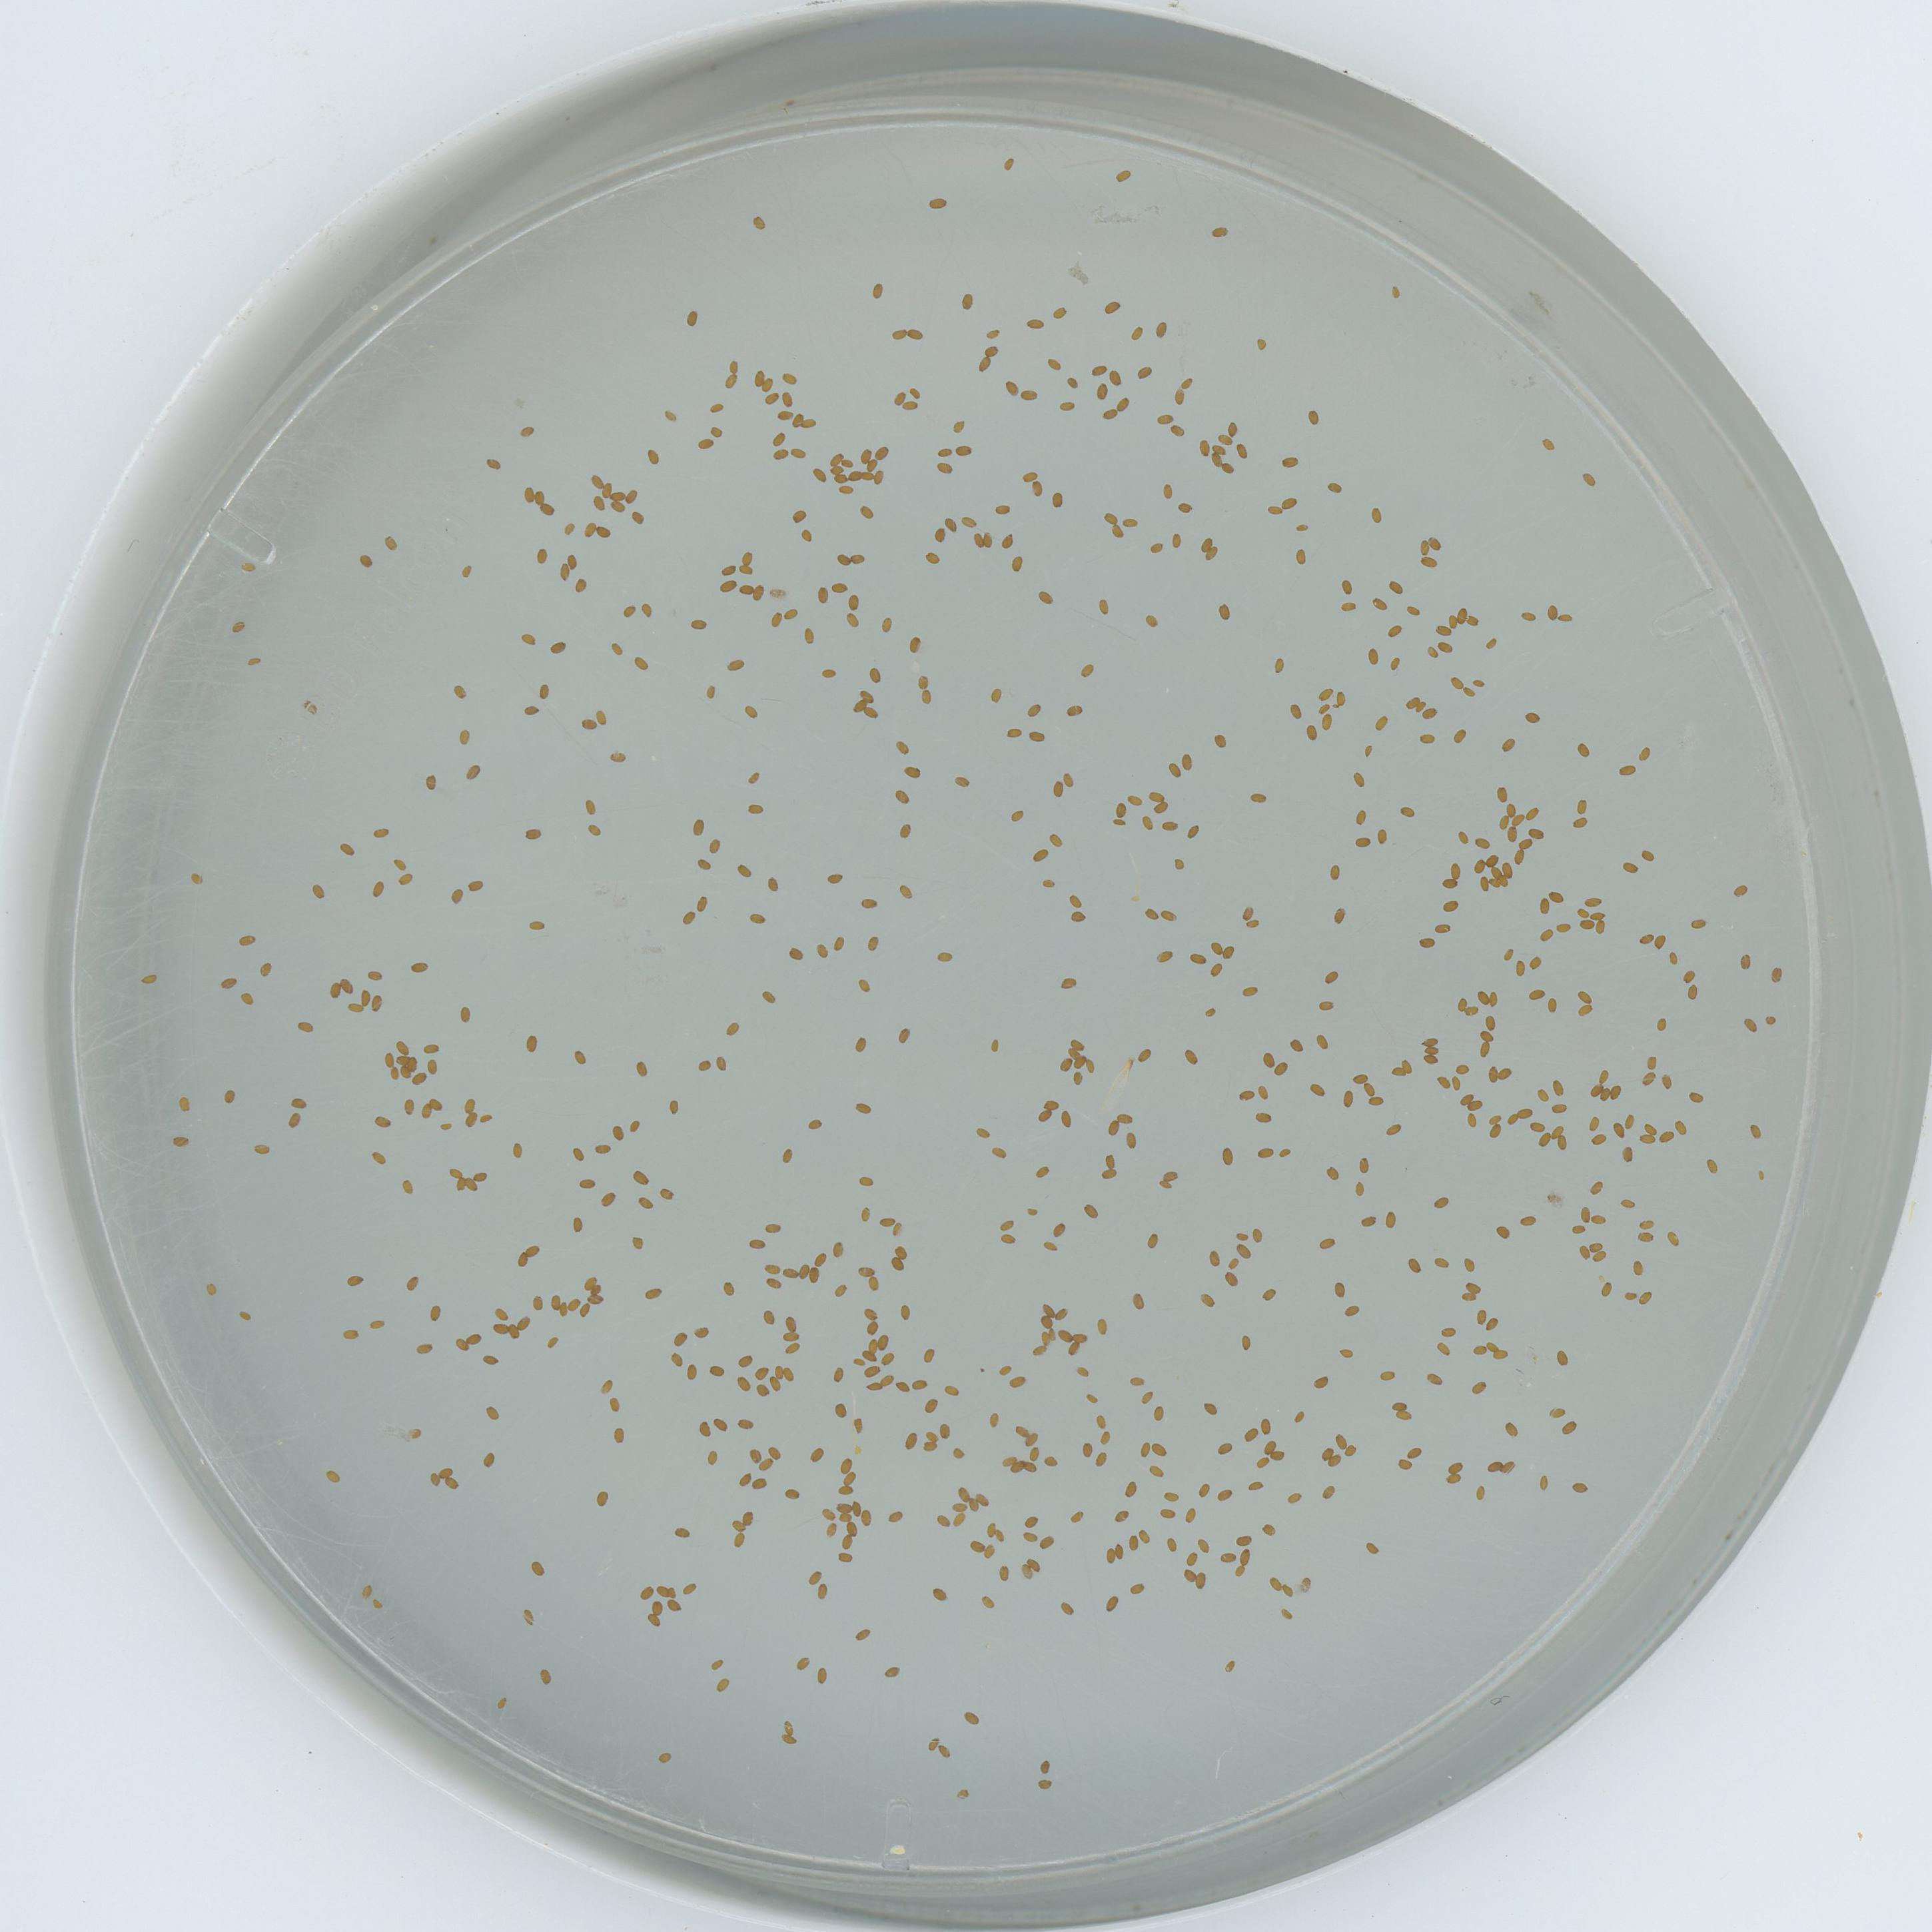seed: (644, 1281, 663, 1300), (1214, 602, 1233, 621), (750, 1362, 771, 1380), (464, 763, 483, 780), (832, 1401, 851, 1419), (421, 1037, 441, 1054), (598, 1191, 617, 1208), (524, 1033, 541, 1053), (1440, 897, 1460, 915), (1031, 846, 1049, 865), (1491, 786, 1511, 803), (1102, 297, 1122, 315), (1338, 1088, 1357, 1106), (1182, 1550, 1201, 1568), (1217, 1146, 1237, 1164), (1054, 1108, 1074, 1125), (1150, 1438, 1168, 1458), (1608, 1120, 1628, 1138), (870, 281, 888, 299), (867, 665, 885, 683), (548, 639, 566, 656), (895, 821, 913, 839), (893, 787, 911, 805), (929, 193, 947, 211), (690, 819, 708, 837), (683, 310, 701, 327), (787, 943, 805, 961), (518, 485, 536, 502), (837, 1454, 855, 1472), (876, 1332, 893, 1350), (529, 1559, 547, 1576), (902, 1431, 920, 1449), (579, 1173, 596, 1191), (695, 1419, 713, 1437), (748, 1235, 766, 1253), (922, 1396, 939, 1414), (768, 1442, 786, 1460), (885, 1661, 902, 1679), (736, 1375, 754, 1392), (632, 1169, 649, 1187), (713, 1414, 731, 1431), (610, 1426, 628, 1444), (761, 1307, 778, 1325), (855, 1035, 872, 1053), (594, 1488, 612, 1506), (814, 1667, 832, 1684), (1093, 382, 1111, 400), (1210, 732, 1228, 750), (1046, 832, 1063, 849), (1090, 361, 1108, 379), (1035, 587, 1053, 605), (1387, 577, 1405, 594), (1373, 828, 1391, 846), (1047, 490, 1065, 508), (1302, 724, 1320, 741), (1500, 736, 1518, 754), (1125, 791, 1143, 809), (1575, 741, 1592, 759), (998, 531, 1016, 548), (1177, 754, 1194, 771), (1286, 1033, 1304, 1051), (1102, 1594, 1120, 1612), (1198, 1290, 1215, 1307), (1502, 1419, 1520, 1437), (1426, 1369, 1444, 1387), (1077, 1440, 1095, 1458), (1254, 1106, 1272, 1123), (1081, 1201, 1099, 1219), (1049, 1219, 1067, 1237), (1148, 1403, 1166, 1421), (1182, 1044, 1200, 1062), (1127, 1580, 1145, 1598), (1405, 1254, 1422, 1272), (1674, 1116, 1691, 1134), (1122, 1129, 1139, 1146), (1353, 1155, 1371, 1173), (1665, 1230, 1683, 1247), (1237, 1085, 1254, 1102), (1382, 1210, 1399, 1228), (1560, 1417, 1578, 1435), (1330, 1279, 1348, 1297), (826, 872, 846, 888), (694, 895, 713, 911), (780, 370, 800, 386), (863, 1320, 883, 1336), (736, 1350, 755, 1366), (708, 1361, 727, 1376), (483, 1405, 502, 1421), (221, 1086, 237, 1106), (936, 1422, 955, 1438), (257, 962, 276, 978), (1187, 948, 1207, 964), (1279, 453, 1299, 469), (1024, 315, 1044, 331), (1433, 623, 1453, 639), (1527, 985, 1546, 1001), (1516, 1104, 1536, 1120), (1217, 1548, 1237, 1564), (1445, 1458, 1465, 1474), (1258, 1438, 1277, 1454), (1196, 1571, 1212, 1591), (1644, 1051, 1663, 1067), (1513, 957, 1527, 978), (936, 947, 954, 962), (862, 895, 879, 911), (874, 442, 892, 458), (632, 655, 649, 671), (814, 586, 832, 602), (862, 686, 878, 704), (925, 548, 941, 566), (846, 594, 863, 610), (860, 502, 878, 518), (596, 522, 612, 540), (706, 839, 724, 855), (764, 876, 782, 892), (448, 888, 465, 904), (791, 508, 809, 524), (906, 637, 924, 653), (736, 863, 754, 879), (892, 324, 908, 341), (931, 527, 948, 543), (865, 934, 883, 950), (904, 764, 922, 780), (582, 798, 598, 816), (695, 858, 713, 874), (893, 740, 911, 755), (639, 602, 656, 617), (239, 931, 257, 947), (844, 612, 862, 628), (724, 373, 741, 389), (534, 683, 552, 699), (766, 610, 784, 626), (338, 842, 356, 858), (690, 616, 708, 632), (534, 547, 550, 564), (725, 357, 741, 375), (529, 916, 547, 932), (720, 561, 738, 577), (801, 628, 819, 644), (750, 584, 768, 600), (587, 472, 605, 488), (810, 467, 828, 483), (571, 577, 587, 594), (918, 690, 936, 706), (421, 775, 439, 791), (727, 656, 745, 672), (586, 823, 603, 839), (858, 1261, 876, 1277), (867, 1274, 885, 1290), (784, 1484, 801, 1500), (911, 1375, 929, 1391), (403, 1274, 421, 1290), (396, 1039, 414, 1054), (764, 1219, 782, 1235), (888, 1507, 906, 1523), (897, 1304, 915, 1320), (672, 1329, 690, 1345), (830, 1366, 847, 1382), (416, 1339, 433, 1355), (738, 1414, 755, 1430), (879, 1212, 897, 1228), (456, 1005, 474, 1021), (373, 1113, 391, 1129), (426, 1304, 444, 1320), (704, 1449, 722, 1465), (423, 1058, 441, 1074), (931, 1585, 947, 1603), (784, 1313, 800, 1330), (814, 1583, 832, 1599), (683, 1362, 701, 1378), (571, 1047, 589, 1063), (823, 1522, 840, 1537), (525, 1240, 543, 1256), (658, 1182, 674, 1200), (858, 1171, 876, 1187), (694, 1323, 711, 1339), (568, 1217, 586, 1233), (812, 1249, 828, 1267), (437, 1461, 455, 1477), (400, 1099, 418, 1115), (856, 1099, 874, 1115), (778, 1148, 796, 1164), (520, 1610, 538, 1626), (633, 1062, 651, 1077), (338, 977, 354, 994), (665, 1097, 683, 1113), (288, 1093, 306, 1109), (764, 1274, 782, 1290), (324, 1465, 340, 1483), (538, 1668, 554, 1686), (630, 1231, 646, 1249), (287, 1115, 304, 1131), (833, 1281, 851, 1297), (1159, 483, 1177, 499), (1292, 548, 1309, 564), (1065, 893, 1083, 909), (1184, 824, 1201, 840), (975, 356, 993, 372), (1120, 513, 1138, 529), (1138, 816, 1155, 832), (1141, 612, 1159, 628), (1005, 725, 1023, 741), (1155, 948, 1173, 964), (993, 501, 1010, 517), (1355, 833, 1371, 851), (1350, 771, 1368, 787), (1008, 556, 1026, 571), (1523, 709, 1541, 725), (1447, 674, 1465, 690), (1028, 729, 1046, 745), (1049, 304, 1067, 320), (1152, 320, 1168, 338), (1155, 409, 1173, 425), (1047, 782, 1065, 798), (1281, 494, 1299, 510), (1537, 925, 1555, 941), (1417, 731, 1435, 747), (982, 341, 1000, 357), (1364, 648, 1382, 663), (1286, 702, 1304, 718), (1065, 702, 1083, 718), (1093, 598, 1111, 614), (1573, 798, 1591, 814), (1162, 817, 1180, 833), (1732, 883, 1750, 899), (1523, 807, 1541, 823), (1249, 789, 1267, 805), (1403, 602, 1421, 617), (1474, 833, 1491, 849), (1207, 939, 1223, 957), (1141, 906, 1159, 922), (1146, 540, 1164, 556), (1161, 908, 1178, 924), (1316, 685, 1332, 702), (1419, 932, 1435, 950), (1330, 908, 1348, 924), (1440, 878, 1458, 893), (1106, 370, 1123, 386), (1115, 395, 1132, 410), (1162, 763, 1180, 778), (1318, 715, 1336, 731), (1109, 803, 1127, 819), (1332, 692, 1350, 708), (1352, 810, 1369, 826), (1062, 373, 1079, 389), (1134, 363, 1152, 379), (1587, 1178, 1605, 1194), (1205, 1249, 1223, 1265), (1470, 1307, 1488, 1323), (985, 1412, 1003, 1428), (1550, 1403, 1568, 1419), (1042, 1095, 1060, 1111), (1035, 1109, 1053, 1125), (1481, 1016, 1499, 1031), (1629, 1258, 1647, 1274), (1435, 1339, 1453, 1355), (1534, 1474, 1552, 1490), (1470, 1378, 1488, 1394), (968, 1537, 985, 1553), (1056, 1058, 1074, 1074), (1146, 1463, 1164, 1479), (1320, 1484, 1338, 1500), (1352, 1178, 1368, 1196), (1233, 1530, 1251, 1546), (1640, 1069, 1658, 1085), (1318, 1231, 1336, 1247), (1338, 1345, 1355, 1361), (1619, 1194, 1637, 1210), (1638, 1288, 1656, 1304), (991, 1143, 1008, 1159), (1215, 1486, 1233, 1502), (1704, 1157, 1721, 1173), (1258, 1417, 1276, 1433), (1484, 1458, 1502, 1474), (1159, 1506, 1177, 1522), (1161, 1166, 1178, 1182), (1658, 1072, 1674, 1090), (1323, 1164, 1341, 1180), (1405, 1444, 1422, 1460), (1591, 1131, 1608, 1146), (1021, 1513, 1039, 1529), (1129, 1292, 1145, 1309), (1343, 1302, 1361, 1318), (1352, 1067, 1369, 1083), (1037, 1534, 1054, 1550), (1309, 1081, 1327, 1097), (996, 1361, 1014, 1376), (1591, 1210, 1608, 1226), (1037, 1759, 1053, 1776), (1359, 1212, 1376, 1228), (1215, 1440, 1233, 1456), (1265, 1573, 1281, 1591), (1553, 1350, 1571, 1366), (1433, 1072, 1451, 1088), (1272, 1060, 1290, 1076), (1254, 1083, 1272, 1099), (1311, 1373, 1329, 1389), (1194, 1536, 1212, 1552), (1484, 1065, 1500, 1083), (1545, 996, 1562, 1012), (1256, 1143, 1274, 1159), (1652, 1016, 1670, 1031), (1619, 1146, 1637, 1162), (1120, 1481, 1138, 1497), (1127, 1373, 1145, 1389), (1235, 1242, 1253, 1258), (1576, 1001, 1594, 1017), (1529, 1116, 1546, 1132), (1497, 1063, 1514, 1079), (1470, 1341, 1488, 1357), (1624, 1111, 1640, 1129), (1743, 1016, 1759, 1033), (1536, 1131, 1552, 1148), (1123, 1534, 1139, 1552), (1746, 1122, 1764, 1138), (1476, 1024, 1493, 1040), (1069, 1069, 1085, 1086), (1552, 1079, 1568, 1097), (1491, 1346, 1509, 1362), (177, 1095, 193, 1113), (244, 653, 262, 669), (370, 994, 384, 1014), (1433, 920, 1453, 934), (1548, 1100, 1568, 1115), (770, 586, 789, 600), (879, 617, 895, 633), (524, 702, 540, 718), (310, 885, 326, 901), (853, 550, 869, 566), (591, 495, 607, 511), (832, 934, 847, 950), (908, 384, 924, 400), (525, 826, 541, 842), (520, 630, 536, 646), (709, 400, 725, 416), (630, 510, 646, 525), (621, 603, 637, 619), (863, 706, 879, 722), (453, 685, 469, 701), (663, 407, 679, 423), (373, 824, 389, 840), (398, 872, 414, 888), (561, 520, 577, 536), (915, 674, 931, 690), (556, 564, 571, 580), (456, 729, 472, 745), (699, 435, 715, 451), (391, 856, 407, 872), (833, 579, 849, 594), (748, 800, 764, 816), (780, 391, 796, 407), (370, 881, 386, 897), (771, 430, 787, 446), (580, 717, 596, 732), (540, 502, 556, 518), (704, 683, 720, 699), (750, 909, 766, 925), (938, 460, 954, 476), (580, 522, 596, 538), (566, 552, 582, 568), (609, 640, 625, 656), (646, 448, 662, 464), (750, 214, 766, 230), (740, 550, 755, 566), (594, 709, 610, 725), (487, 455, 502, 471), (357, 552, 373, 568), (830, 451, 846, 467), (674, 1522, 690, 1537), (600, 1376, 616, 1392), (943, 1382, 959, 1398), (237, 991, 253, 1007), (936, 1743, 952, 1759), (738, 1470, 754, 1486), (747, 1447, 763, 1463), (893, 1240, 909, 1256), (529, 1293, 545, 1309), (895, 1378, 911, 1394), (807, 1568, 823, 1583), (596, 1139, 612, 1155), (297, 1017, 313, 1033), (863, 1304, 879, 1320), (821, 1506, 837, 1522), (492, 1320, 508, 1336), (462, 1095, 478, 1111), (510, 1143, 525, 1159), (715, 1677, 731, 1693), (626, 1116, 642, 1132), (720, 1279, 736, 1295), (612, 1125, 628, 1141), (481, 1451, 497, 1467), (515, 1315, 531, 1330), (796, 1654, 812, 1670), (571, 1145, 587, 1161), (832, 1242, 847, 1258), (442, 1476, 458, 1491), (858, 1205, 874, 1221), (948, 1445, 964, 1461), (637, 1583, 653, 1599), (883, 1350, 899, 1366), (637, 1192, 653, 1208), (810, 1445, 826, 1461), (839, 1550, 855, 1566), (752, 1476, 768, 1491), (807, 1115, 823, 1131), (715, 1054, 731, 1070), (895, 1026, 911, 1042), (667, 1598, 683, 1614), (741, 1511, 757, 1527), (253, 1139, 269, 1155), (545, 1334, 561, 1350), (837, 1499, 853, 1514), (407, 1424, 423, 1440), (368, 1315, 384, 1330), (851, 1417, 867, 1433), (359, 1582, 375, 1598), (892, 1223, 908, 1238), (1387, 623, 1403, 639), (1003, 380, 1019, 396), (1582, 471, 1598, 487), (1028, 481, 1044, 497), (1368, 506, 1384, 522), (1238, 906, 1254, 922), (1339, 580, 1355, 596), (1077, 662, 1093, 678), (1024, 702, 1040, 718), (987, 686, 1003, 702), (1483, 635, 1499, 651), (1235, 442, 1251, 458), (1652, 934, 1668, 950), (1619, 763, 1635, 778), (1021, 386, 1037, 402), (1044, 356, 1060, 372), (1422, 706, 1438, 722), (984, 326, 1000, 341), (1039, 876, 1054, 892), (1146, 787, 1162, 803), (1398, 803, 1414, 819), (1306, 410, 1322, 426), (1541, 437, 1557, 453), (1573, 816, 1589, 832), (1221, 943, 1237, 959), (1060, 771, 1076, 787), (1500, 945, 1516, 961), (1178, 373, 1194, 389), (1667, 950, 1683, 966), (1454, 830, 1470, 846), (1327, 865, 1343, 881), (1438, 639, 1454, 655), (1373, 715, 1389, 731), (1224, 419, 1240, 435), (1169, 856, 1185, 872), (1536, 899, 1552, 915), (1194, 439, 1210, 455), (1205, 545, 1221, 561), (1504, 828, 1520, 844), (1171, 389, 1187, 405), (1265, 502, 1281, 518), (1594, 920, 1610, 936), (1058, 1601, 1074, 1617), (1573, 1479, 1589, 1495), (1069, 1033, 1085, 1049), (1323, 970, 1339, 985), (1240, 982, 1256, 998), (1440, 1323, 1456, 1339), (1364, 1539, 1380, 1555), (1145, 1231, 1161, 1247), (1316, 996, 1332, 1012), (1223, 1270, 1238, 1286), (1136, 1046, 1152, 1062), (1433, 1253, 1449, 1269), (1242, 1428, 1258, 1444), (1136, 1442, 1152, 1458), (1378, 1366, 1394, 1382), (1237, 1334, 1253, 1350), (1684, 984, 1700, 1000), (1162, 1536, 1178, 1552), (1260, 1522, 1276, 1537), (1433, 1192, 1449, 1208), (1104, 1120, 1120, 1136), (1495, 1223, 1511, 1238), (1260, 1284, 1276, 1300), (1196, 1481, 1212, 1497), (1286, 1490, 1302, 1506), (1260, 1049, 1276, 1065), (1247, 1477, 1263, 1493), (1037, 1315, 1053, 1330), (1201, 1399, 1217, 1415), (1472, 1484, 1488, 1500), (1460, 1254, 1476, 1270), (1093, 1318, 1109, 1334), (966, 1711, 982, 1727), (1474, 989, 1490, 1005), (1182, 1507, 1198, 1523), (1162, 1488, 1178, 1504), (1113, 1509, 1129, 1525), (1180, 1568, 1196, 1583), (1074, 1362, 1090, 1378), (980, 1594, 996, 1610), (1238, 1548, 1254, 1564), (1102, 1154, 1118, 1169), (1449, 1074, 1465, 1090), (1681, 968, 1697, 984), (1596, 1065, 1612, 1081), (1534, 1086, 1550, 1102), (1093, 1453, 1109, 1468), (1484, 1316, 1500, 1332), (1116, 1108, 1132, 1123), (1201, 1003, 1217, 1019), (1610, 1083, 1626, 1099), (1488, 1122, 1504, 1138), (1548, 1123, 1564, 1139), (1138, 1529, 1154, 1545), (1313, 1031, 1329, 1047), (1385, 1120, 1401, 1136), (1465, 1001, 1481, 1017), (1299, 1576, 1315, 1592), (1249, 1226, 1265, 1242), (1486, 1109, 1502, 1125), (1576, 1207, 1592, 1223), (996, 1566, 1012, 1582), (1083, 1391, 1099, 1407), (1465, 1277, 1481, 1293), (1598, 1279, 1614, 1295), (1039, 1300, 1054, 1316), (1026, 1557, 1042, 1573), (1095, 1430, 1111, 1445), (1587, 1115, 1603, 1131), (1233, 1228, 1249, 1244), (1037, 1776, 1053, 1792), (495, 1695, 511, 1711), (172, 1134, 188, 1150), (189, 870, 205, 886), (303, 699, 318, 715), (230, 617, 246, 633), (239, 559, 255, 575), (840, 483, 858, 497), (936, 444, 954, 458), (897, 885, 915, 899), (821, 667, 839, 681), (941, 517, 959, 531), (750, 368, 764, 386), (600, 479, 614, 497), (533, 487, 547, 504), (934, 1513, 952, 1527), (784, 1341, 801, 1355), (862, 1364, 879, 1378), (764, 1260, 782, 1274), (345, 1272, 363, 1286), (370, 1150, 387, 1164), (398, 1178, 416, 1192), (924, 1428, 941, 1442), (605, 1398, 623, 1412), (731, 1532, 748, 1546), (1325, 479, 1343, 494), (1008, 809, 1026, 823), (1069, 909, 1086, 924), (1622, 862, 1640, 876), (1548, 890, 1566, 904), (1127, 326, 1145, 340), (1555, 920, 1573, 934), (1168, 533, 1185, 547), (1451, 729, 1468, 743), (1585, 893, 1603, 908), (1150, 801, 1168, 816), (1403, 695, 1421, 709), (1578, 918, 1596, 932), (970, 531, 984, 548), (1421, 554, 1438, 568), (961, 292, 975, 310), (1008, 1375, 1026, 1389), (1520, 1212, 1537, 1226), (1638, 1215, 1656, 1230), (1463, 1113, 1481, 1127), (1224, 1254, 1242, 1269), (975, 1491, 993, 1506), (1067, 1509, 1085, 1523), (1391, 1398, 1408, 1412), (1276, 1145, 1293, 1159), (1060, 975, 1077, 989), (1033, 1164, 1051, 1178), (1092, 1414, 1109, 1428), (1445, 1472, 1463, 1486), (1099, 1166, 1116, 1180), (202, 1281, 219, 1295), (952, 775, 971, 787), (410, 961, 430, 973), (1115, 1543, 1127, 1562), (467, 879, 483, 893), (791, 444, 807, 458), (720, 579, 736, 593), (382, 536, 398, 550), (709, 423, 725, 437), (908, 327, 924, 341), (626, 490, 642, 504), (816, 941, 830, 957), (851, 699, 867, 713), (740, 582, 754, 598), (610, 499, 626, 513), (773, 448, 789, 462), (610, 750, 626, 764), (837, 552, 853, 566), (950, 418, 966, 432), (764, 391, 780, 405), (800, 529, 816, 543), (874, 469, 888, 485), (738, 564, 754, 579), (456, 564, 472, 579), (518, 425, 534, 439), (610, 488, 626, 502), (761, 377, 775, 393), (681, 909, 697, 924), (745, 704, 761, 718), (803, 416, 819, 430), (777, 407, 793, 421), (839, 1536, 855, 1550), (347, 1000, 363, 1014), (221, 975, 237, 989), (725, 1021, 741, 1035), (780, 1720, 796, 1734), (759, 1458, 775, 1472), (483, 1352, 499, 1366), (649, 1599, 665, 1614), (681, 1580, 697, 1594), (761, 989, 777, 1003), (467, 1330, 483, 1345), (920, 1346, 936, 1361), (754, 1384, 770, 1398), (494, 1306, 510, 1320), (862, 1509, 876, 1525), (646, 1614, 662, 1628), (844, 1470, 860, 1484), (658, 1750, 674, 1764), (419, 1104, 433, 1120), (697, 1056, 713, 1070), (412, 1070, 428, 1085), (846, 1522, 862, 1536), (478, 1109, 494, 1123), (566, 1297, 582, 1311), (669, 1352, 685, 1366), (515, 1253, 531, 1267), (464, 1113, 479, 1127), (366, 968, 382, 982), (849, 1500, 863, 1516), (855, 1628, 870, 1642), (782, 1265, 798, 1279), (709, 1658, 725, 1672), (343, 1327, 359, 1341), (451, 1336, 467, 1350), (731, 1518, 747, 1532), (881, 1371, 895, 1387), (439, 1118, 455, 1132), (582, 1276, 598, 1290), (798, 1263, 812, 1279), (950, 1513, 966, 1527), (464, 1177, 479, 1191), (784, 1366, 798, 1382), (925, 1737, 941, 1752), (140, 971, 156, 985), (1737, 952, 1753, 966), (1543, 605, 1559, 619), (1021, 467, 1037, 481), (1640, 847, 1656, 862), (1637, 747, 1652, 761), (1428, 536, 1444, 550), (1522, 609, 1537, 623), (1447, 863, 1463, 878), (1100, 510, 1116, 524), (1108, 525, 1123, 540), (1470, 674, 1486, 688), (1100, 407, 1116, 421), (1575, 906, 1591, 920), (1177, 501, 1192, 515), (1387, 656, 1403, 671), (1060, 398, 1076, 412), (1495, 814, 1509, 830), (1691, 915, 1707, 929), (1484, 853, 1500, 867), (1339, 600, 1355, 614), (1219, 460, 1235, 474), (1270, 658, 1286, 672), (1208, 453, 1223, 469), (1557, 610, 1573, 625), (1371, 596, 1387, 610), (1168, 423, 1184, 437), (1212, 223, 1228, 237), (1637, 931, 1652, 945), (1115, 168, 1131, 182), (1518, 839, 1534, 853), (1529, 824, 1545, 839), (1504, 801, 1520, 816), (1315, 702, 1330, 717), (1502, 863, 1516, 879), (1461, 686, 1477, 701), (1415, 540, 1430, 556), (1465, 616, 1481, 630), (1253, 336, 1269, 350), (1424, 646, 1440, 660), (961, 515, 977, 529), (1361, 745, 1376, 759), (1054, 1327, 1070, 1341), (1576, 1244, 1591, 1260), (1014, 1422, 1030, 1437), (1138, 1389, 1154, 1403), (1476, 1042, 1491, 1056), (1023, 1530, 1039, 1545), (1454, 1060, 1470, 1074), (1622, 1286, 1638, 1300), (1398, 1458, 1414, 1472), (1100, 1548, 1115, 1564), (1576, 989, 1592, 1003), (1638, 1230, 1654, 1244), (1557, 1134, 1571, 1150), (975, 1123, 991, 1138), (987, 1037, 1003, 1051), (1030, 1343, 1046, 1357), (1000, 1231, 1016, 1246), (1468, 1097, 1484, 1111), (1461, 1290, 1477, 1304), (1769, 968, 1785, 982), (998, 1215, 1014, 1230), (1292, 1408, 1306, 1424), (1504, 1111, 1520, 1125), (1065, 1341, 1079, 1357), (1072, 1329, 1088, 1343), (1368, 1093, 1384, 1108), (1343, 1444, 1359, 1458), (1690, 1088, 1706, 1102), (1762, 1012, 1778, 1026), (1270, 1449, 1286, 1463), (1660, 1129, 1675, 1143), (1500, 1460, 1516, 1474), (982, 1522, 996, 1537), (1592, 1249, 1608, 1263), (1155, 1178, 1171, 1192), (1458, 1090, 1474, 1104), (1644, 1122, 1660, 1136), (1223, 1658, 1237, 1674), (1401, 1056, 1415, 1072), (1587, 1085, 1603, 1099), (1389, 1063, 1405, 1077), (1281, 1583, 1297, 1598), (1253, 1456, 1269, 1470), (1484, 1338, 1500, 1352), (1039, 1238, 1054, 1253), (1279, 1606, 1293, 1622), (1074, 1054, 1088, 1070), (954, 1789, 970, 1803), (902, 400, 920, 412), (327, 982, 340, 1000), (888, 1258, 906, 1270), (587, 1295, 605, 1307), (557, 1299, 570, 1316), (1244, 918, 1261, 931), (1514, 849, 1527, 867), (1422, 1033, 1440, 1046), (1421, 1053, 1438, 1065), (1394, 1410, 1412, 1422), (1021, 1460, 1039, 1472), (1638, 1132, 1656, 1145), (1065, 1047, 1083, 1060), (984, 529, 994, 548), (892, 389, 906, 403), (784, 607, 798, 621), (747, 771, 761, 786), (858, 978, 872, 993), (770, 1376, 784, 1391), (506, 1323, 520, 1338), (924, 1440, 938, 1454), (426, 1472, 441, 1486), (407, 1056, 421, 1070), (865, 1338, 879, 1352), (1198, 538, 1212, 552), (1592, 908, 1606, 922), (1470, 860, 1484, 874), (1476, 876, 1490, 890), (1001, 156, 1016, 170), (1295, 520, 1309, 534), (1529, 955, 1543, 970), (1219, 432, 1233, 446), (1454, 607, 1468, 621), (1024, 1445, 1039, 1460), (1332, 1433, 1346, 1447), (984, 1543, 998, 1557), (1024, 1203, 1039, 1217), (1024, 1431, 1039, 1445), (1054, 1307, 1069, 1322), (1327, 1454, 1341, 1468), (1042, 1454, 1056, 1468), (1085, 1060, 1099, 1074), (1231, 1564, 1246, 1578), (1362, 1081, 1376, 1095), (862, 471, 876, 485), (239, 1307, 253, 1322), (847, 469, 863, 481), (860, 448, 872, 464), (791, 412, 803, 428), (428, 1099, 444, 1111), (867, 1380, 883, 1392), (359, 991, 372, 1007), (782, 1734, 798, 1746), (548, 1293, 561, 1309), (950, 1500, 966, 1513), (773, 1362, 786, 1378), (809, 1267, 821, 1283), (851, 1357, 867, 1369), (1511, 814, 1527, 826), (1589, 1238, 1605, 1251), (1001, 1454, 1017, 1467), (1571, 1223, 1587, 1235), (1207, 966, 1223, 978), (994, 1527, 1007, 1543), (966, 1497, 978, 1513), (1021, 1564, 1033, 1580), (839, 1511, 855, 1523), (372, 1598, 387, 1610), (455, 1177, 467, 1192), (396, 1053, 412, 1065), (837, 1484, 855, 1495), (472, 1171, 490, 1182), (780, 1330, 798, 1341), (1490, 991, 1500, 1008), (1601, 1086, 1612, 1104), (1422, 1044, 1440, 1054), (833, 472, 847, 485), (656, 1583, 669, 1598), (579, 1304, 593, 1316), (863, 1350, 878, 1362), (1445, 614, 1458, 628), (1389, 287, 1403, 299), (1212, 442, 1224, 456), (1320, 1445, 1332, 1460), (1497, 874, 1511, 886), (384, 1051, 395, 1067), (389, 1065, 400, 1081), (1007, 1463, 1023, 1474), (1755, 1168, 1766, 1184), (1458, 996, 1467, 1014), (867, 460, 879, 472), (842, 455, 855, 467), (1490, 878, 1502, 890), (1415, 701, 1428, 713), (952, 442, 962, 456), (448, 1166, 462, 1177), (1111, 817, 1125, 828), (1039, 1330, 1049, 1345), (828, 467, 844, 476), (400, 1065, 410, 1077), (1491, 867, 1502, 879), (591, 1284, 603, 1295), (955, 1486, 964, 1500), (669, 1583, 678, 1598), (1049, 1327, 1056, 1343)
